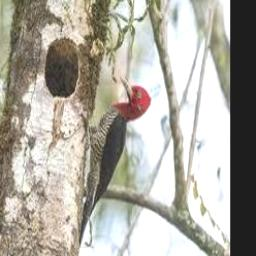Woodpecker: (78, 72, 151, 247)
